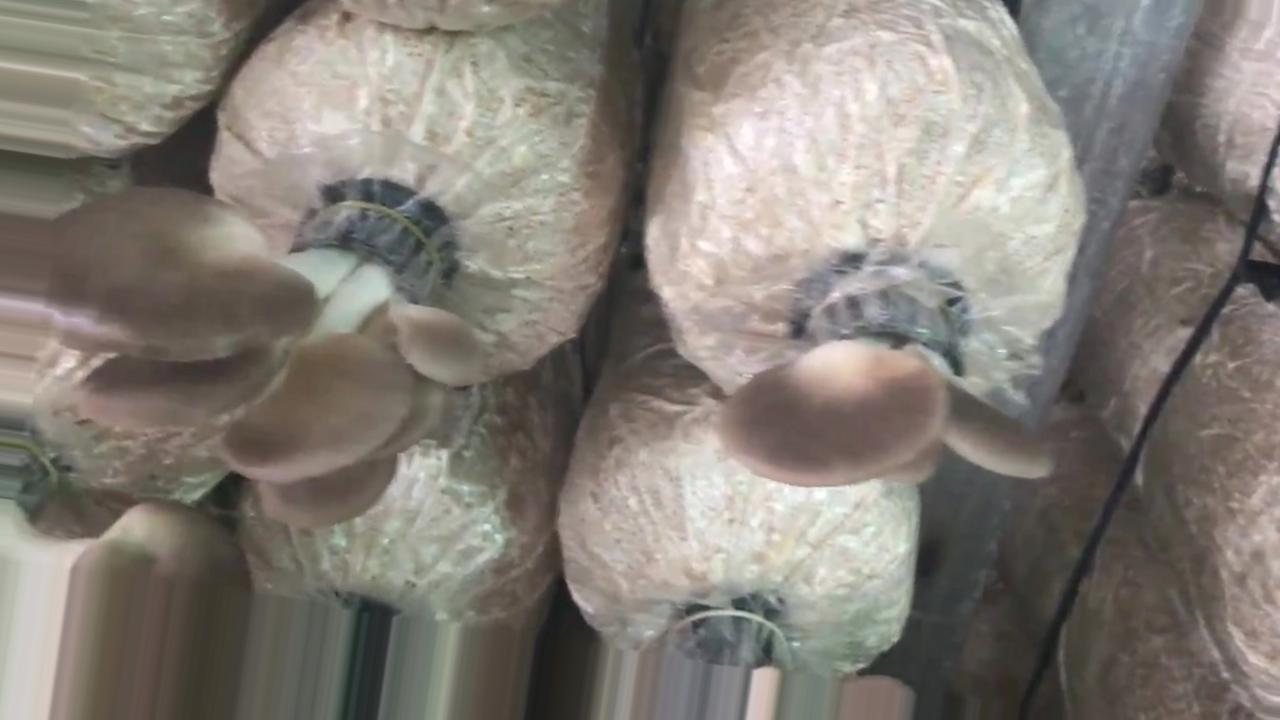nam: (45, 184, 502, 527), (716, 264, 1059, 491)
